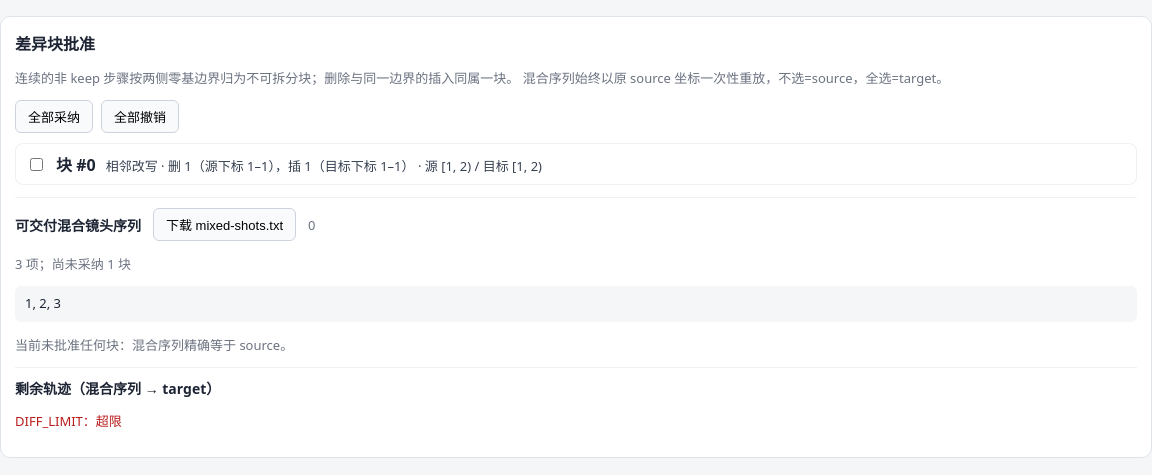
Test: 迟到的剩余计算响应不能覆盖新选择 › 剩余计算失败显示错误且不影响已选块；后续成功恢复
Expected: the text with test id "remaining-error" shows "DIFF_LIMIT", left=15, top=412, right=83, bottom=430
Click the checkbox with test id "block-checkbox" at point(36, 164), box left=30, top=158, right=43, bottom=171
Wait 150 ms
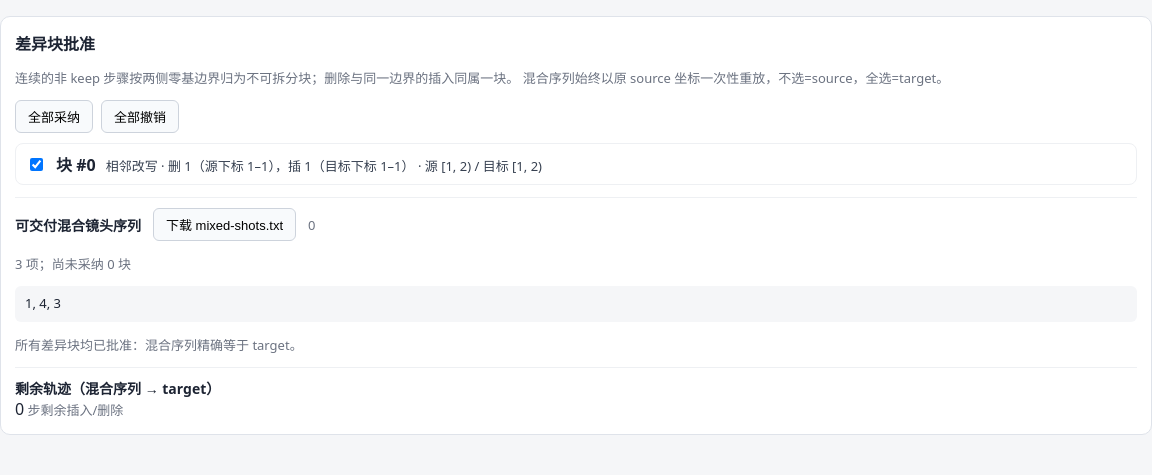
Expected: the text with test id "remaining-error" is gone
Expected: the text with test id "remaining-distance" reads "0", left=15, top=398, right=24, bottom=420
